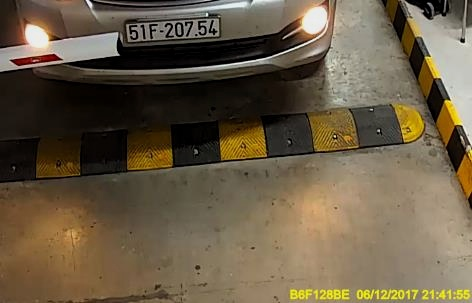plate: (124, 16, 222, 45)
